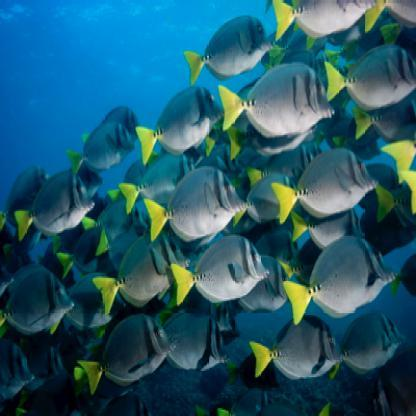Bio: (283, 234, 396, 326), (218, 56, 334, 134), (270, 144, 379, 225), (76, 310, 176, 396), (142, 166, 252, 238), (98, 231, 190, 312), (171, 233, 270, 306), (247, 310, 346, 380), (330, 310, 408, 385), (325, 42, 415, 106), (14, 171, 95, 242), (137, 84, 224, 148), (182, 14, 272, 73), (0, 266, 79, 332), (154, 306, 231, 366), (229, 250, 299, 312), (276, 0, 378, 42), (0, 156, 54, 226), (66, 118, 138, 169)
